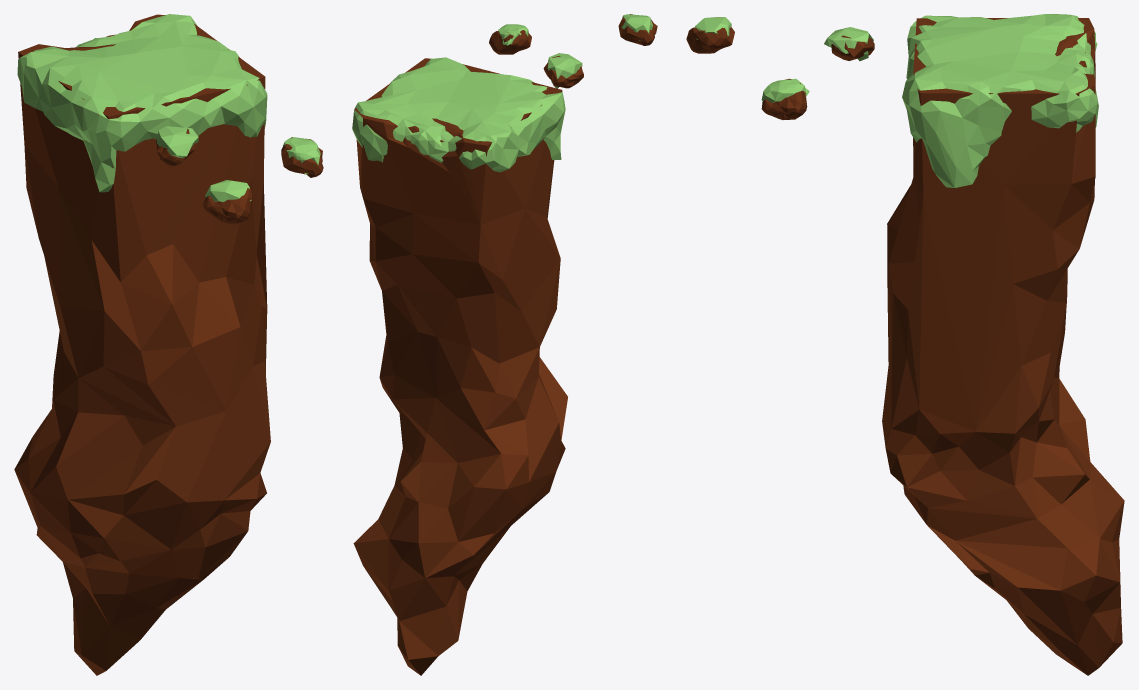
The model's file is Uno_Isola4.fbx.
The picture shows the model from 3 angles, left to right: view 1: azimuth 30°, elevation 25°; view 2: azimuth 150°, elevation 25°; view 3: azimuth 270°, elevation 25°; orthographic projection. The views are drawn at different scales.
Visible parts, largest first — view 1: Plane.007, Plane.018, Sphere.029, Sphere.033, Sphere.030, Sphere.028, Sphere.031; view 2: Plane.007, Plane.018, Sphere.030, Sphere.033, Sphere.029, Sphere.032; view 3: Plane.007, Plane.018, Sphere.029, Sphere.030, Sphere.033, Sphere.031.
Boxes of the visible parts, x1=… form: Plane.007: x1=14, y1=14, x2=270, y2=675; Plane.018: x1=17, y1=14, x2=267, y2=192; Sphere.029: x1=202, y1=181, x2=252, y2=224; Sphere.033: x1=156, y1=126, x2=198, y2=158; Sphere.030: x1=281, y1=137, x2=323, y2=177; Sphere.028: x1=205, y1=180, x2=251, y2=201; Sphere.031: x1=283, y1=137, x2=320, y2=174; Plane.007: x1=353, y1=58, x2=567, y2=675; Plane.018: x1=352, y1=57, x2=565, y2=172; Sphere.030: x1=489, y1=30, x2=531, y2=54; Sphere.033: x1=547, y1=53, x2=582, y2=88; Sphere.029: x1=618, y1=14, x2=657, y2=45; Sphere.032: x1=543, y1=56, x2=583, y2=88; Plane.007: x1=882, y1=18, x2=1124, y2=675; Plane.018: x1=902, y1=14, x2=1098, y2=187; Sphere.029: x1=686, y1=27, x2=734, y2=53; Sphere.030: x1=761, y1=78, x2=807, y2=119; Sphere.033: x1=824, y1=27, x2=873, y2=61; Sphere.031: x1=761, y1=78, x2=809, y2=102.
Size of the model in its own units: 168 by 535 by 338.
